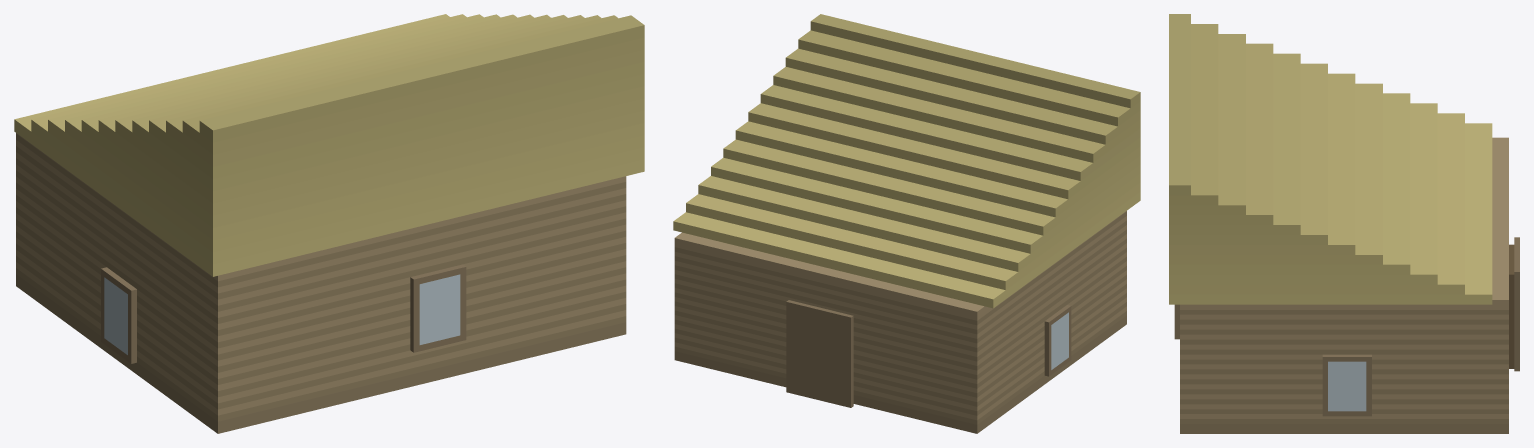
The model's file is cabana_apicultor_03.glb.
3 views of the same model, side by side, from view 1: azimuth 30°, elevation 25°; view 2: azimuth 150°, elevation 25°; view 3: azimuth 270°, elevation 25° (orthographic). The views are drawn at different scales.
Visible parts, largest first — view 1: cabana_apicultor_03; view 2: cabana_apicultor_03; view 3: cabana_apicultor_03.
Boxes of the visible parts, x1,y1,x2,y2 form: cabana_apicultor_03: (14, 14, 644, 433); cabana_apicultor_03: (673, 14, 1140, 433); cabana_apicultor_03: (1169, 14, 1519, 433).
Size of the model in its own units: 7.4 by 5.1 by 6.4.
